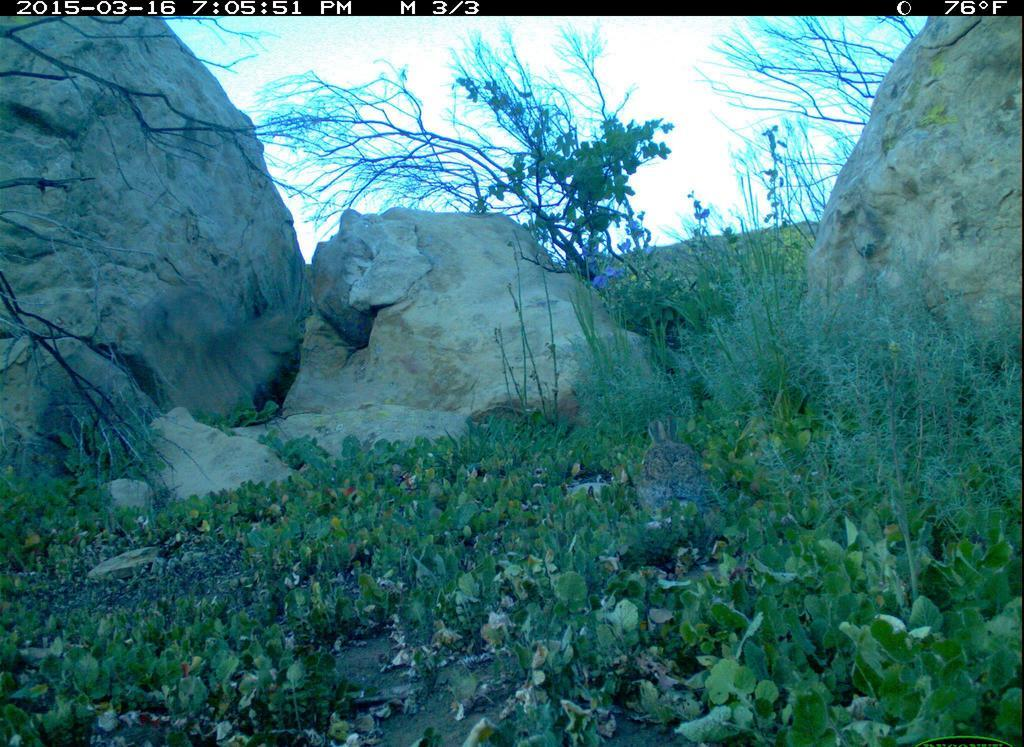rabbit: (630, 409, 734, 524)
